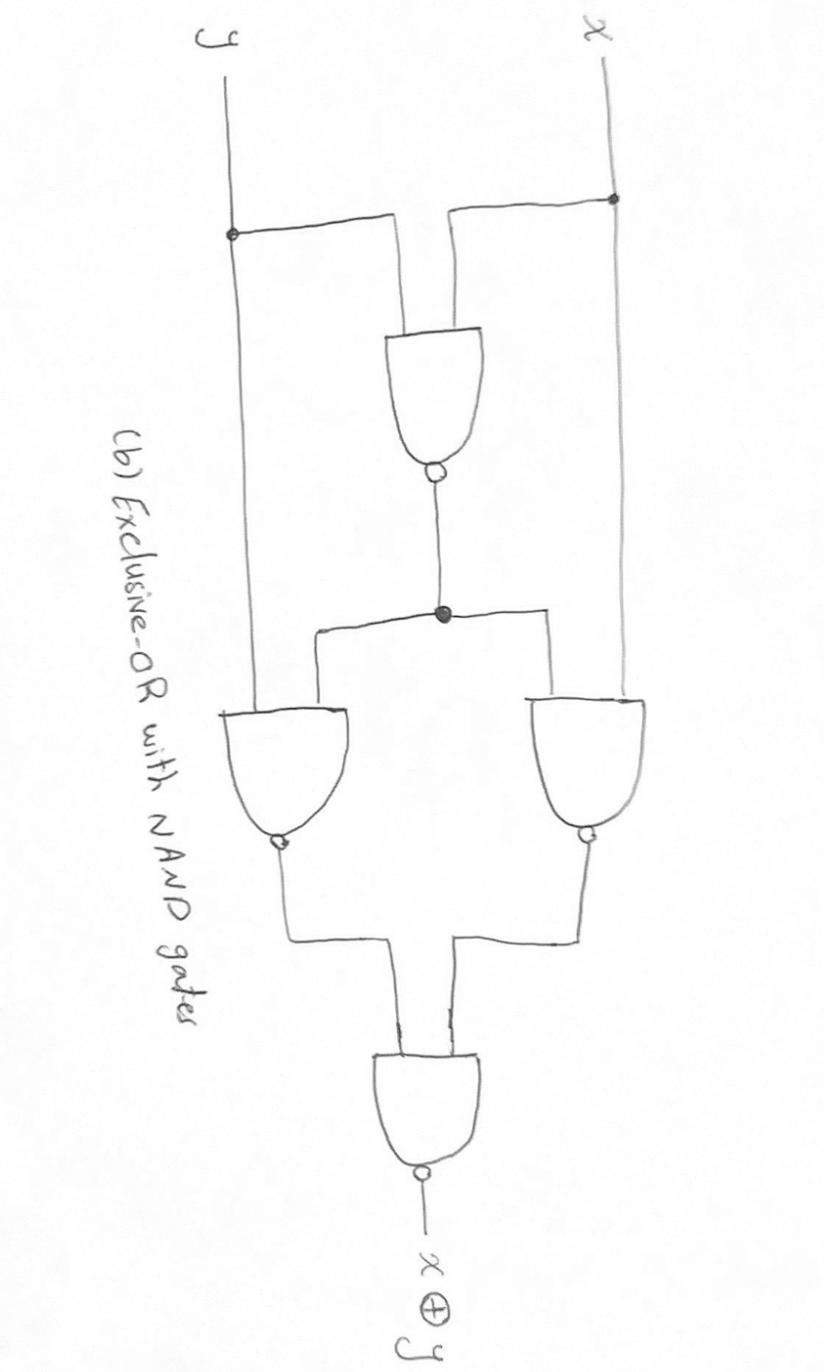NAND: (503, 673, 688, 863), (207, 685, 387, 858), (345, 1038, 526, 1204), (358, 318, 526, 490)
